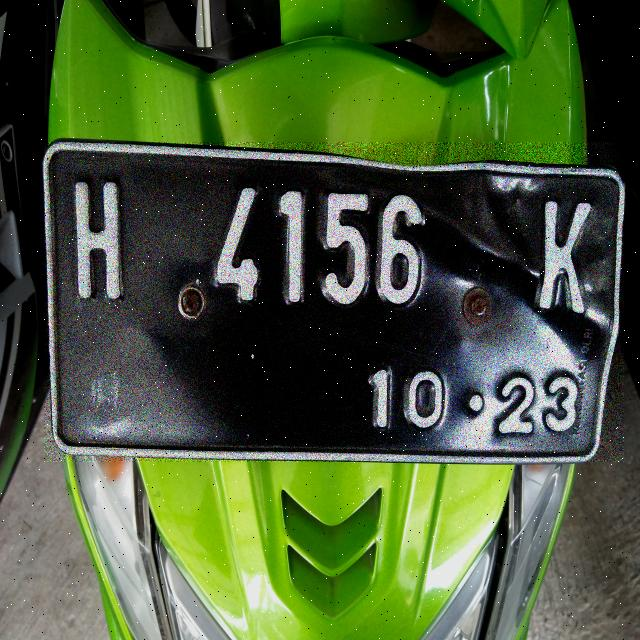plate: (45, 142, 623, 461)
